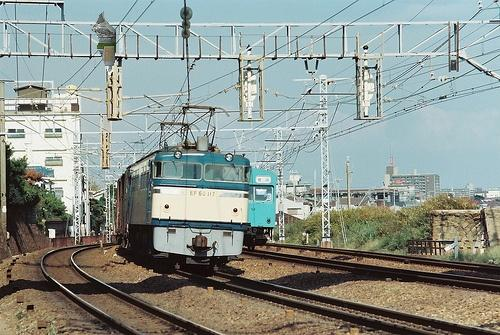tampered: (92, 12, 116, 75)
